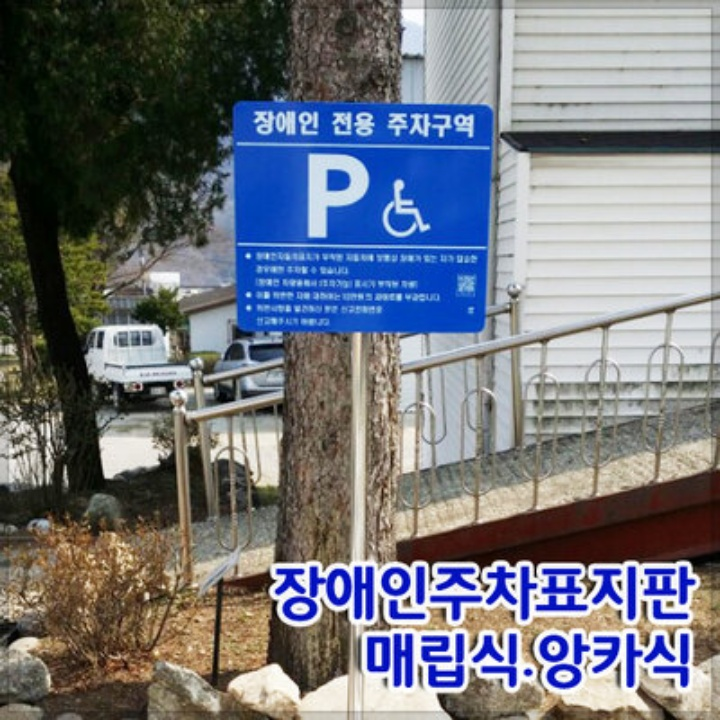parking: (301, 150, 374, 245)
